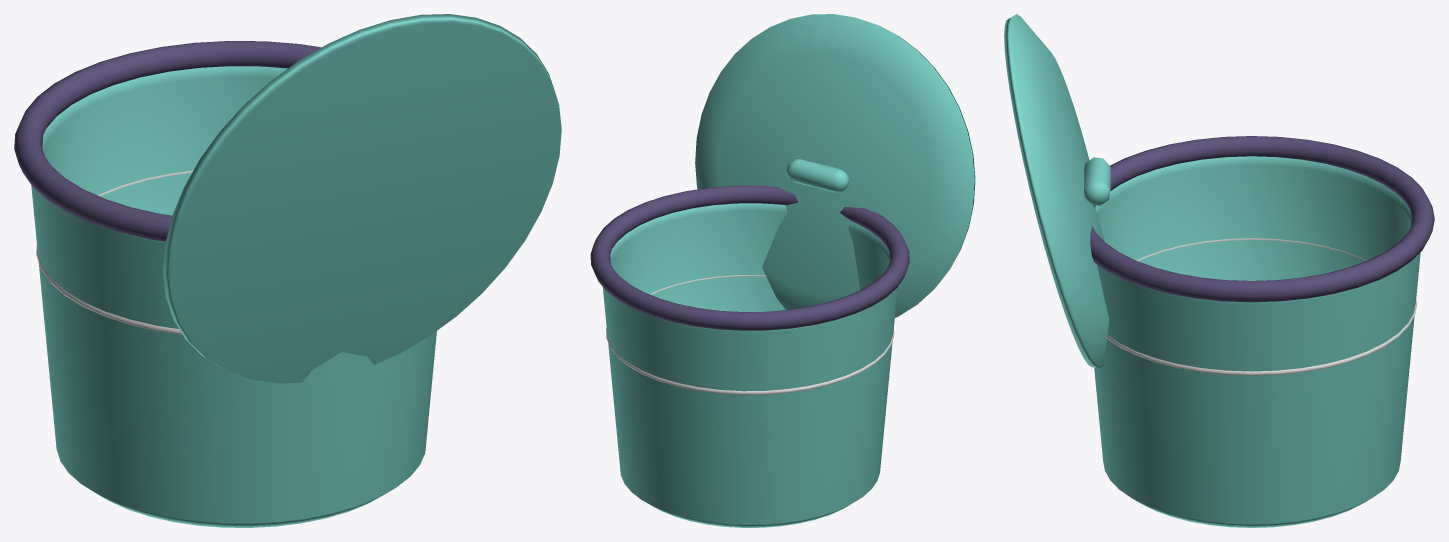
The model's file is CakeBin.obj.
3 renders of one model, left to right at view 1: azimuth 30°, elevation 25°; view 2: azimuth 150°, elevation 25°; view 3: azimuth 270°, elevation 25°, orthographic. The views are drawn at different scales.
Visible parts, largest first — view 1: Lid, Bin, Rim, Stripe; view 2: Bin, Lid, Rim, Stripe; view 3: Bin, Lid, Rim, Stripe.
Boxes of the visible parts, <box> form: Lid: <box>163,14,561,383</box>; Bin: <box>31,66,436,527</box>; Rim: <box>14,41,321,241</box>; Stripe: <box>36,170,192,334</box>; Bin: <box>603,203,897,527</box>; Lid: <box>695,14,975,317</box>; Rim: <box>590,185,909,330</box>; Stripe: <box>606,275,894,394</box>; Bin: <box>1094,156,1420,527</box>; Lid: <box>1004,14,1110,367</box>; Rim: <box>1090,136,1434,302</box>; Stripe: <box>1107,238,1416,375</box>.
Size of the model in its own units: 4.18 by 5.53 by 4.92.
